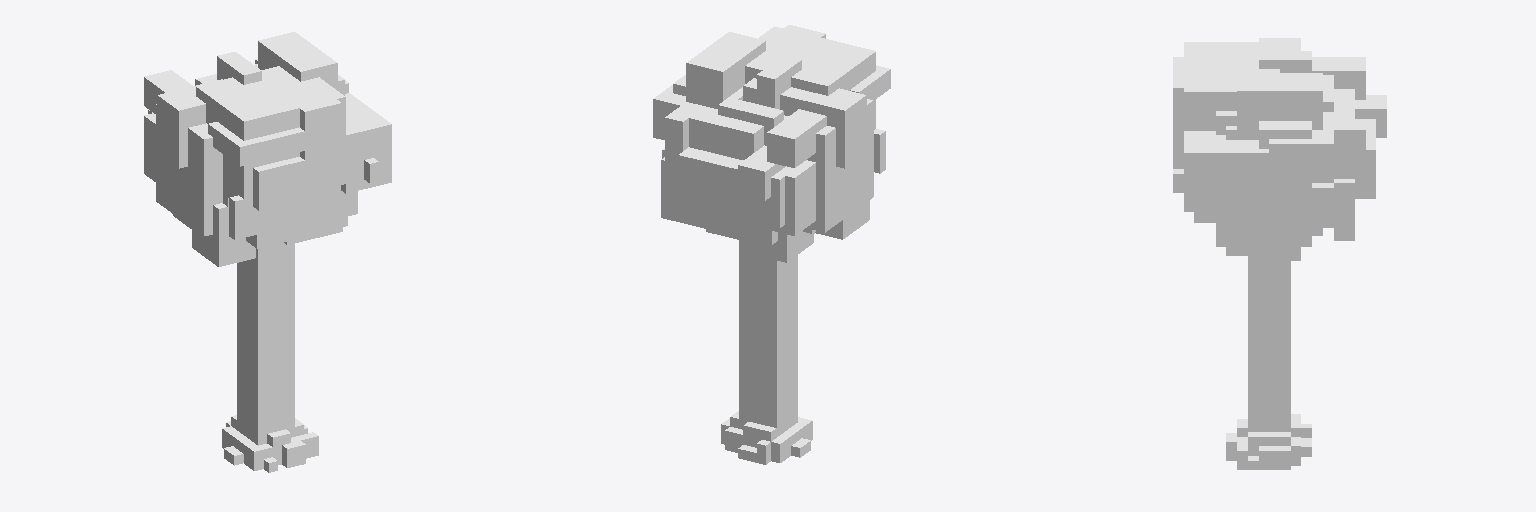
File: Arbol01.obj
3 views of the same model, side by side, from view 1: azimuth 30°, elevation 25°; view 2: azimuth 150°, elevation 25°; view 3: azimuth 270°, elevation 25° (orthographic).
Visible parts, largest first — view 1: object 1; view 2: object 1; view 3: object 1.
Boxes of the visible parts, x1=… form: object 1: x1=144, y1=32, x2=391, y2=472; object 1: x1=653, y1=25, x2=890, y2=464; object 1: x1=1173, y1=38, x2=1386, y2=469.
Bounding box in the file's own units: 1.9 × 4 × 2.